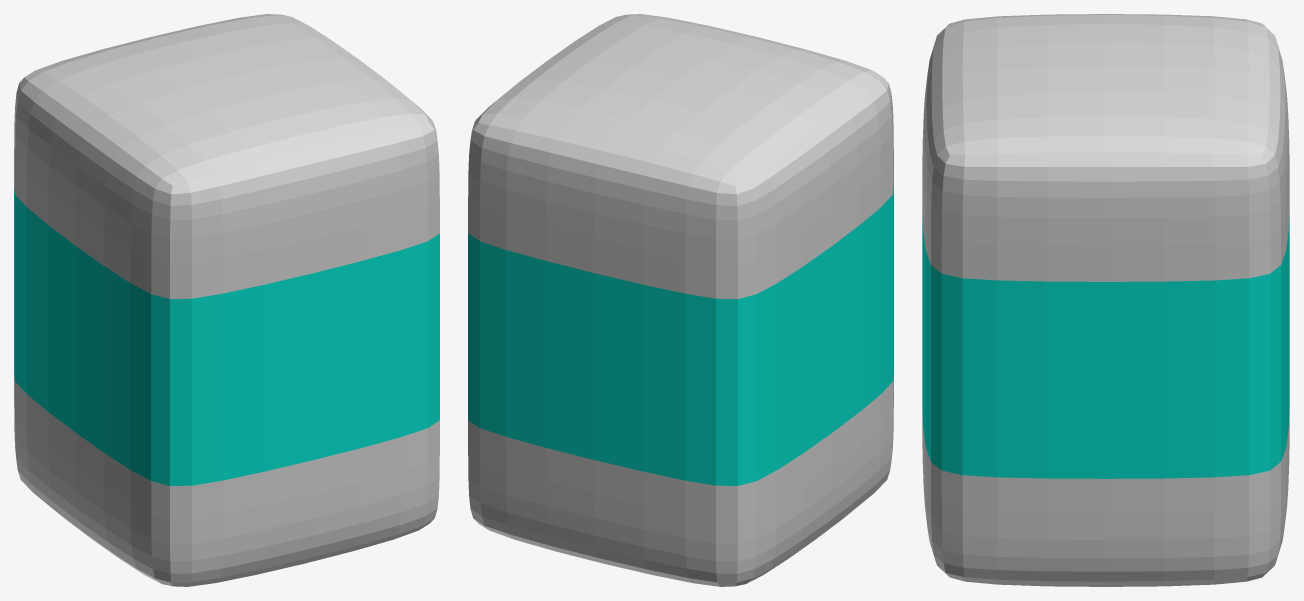
The model's file is Sugaer Item.fbx.
The picture shows the model from 3 angles, left to right: view 1: azimuth 30°, elevation 25°; view 2: azimuth 150°, elevation 25°; view 3: azimuth 270°, elevation 25°; orthographic projection. The views are drawn at different scales.
Parts seen in each view (by area): view 1: Cube; view 2: Cube; view 3: Cube.
Part boxes in pixels (x1,y1,x2,y2): Cube: (14, 14, 439, 586); Cube: (468, 14, 893, 586); Cube: (922, 14, 1289, 586).
Size of the model in its own units: 113 by 159 by 113.
